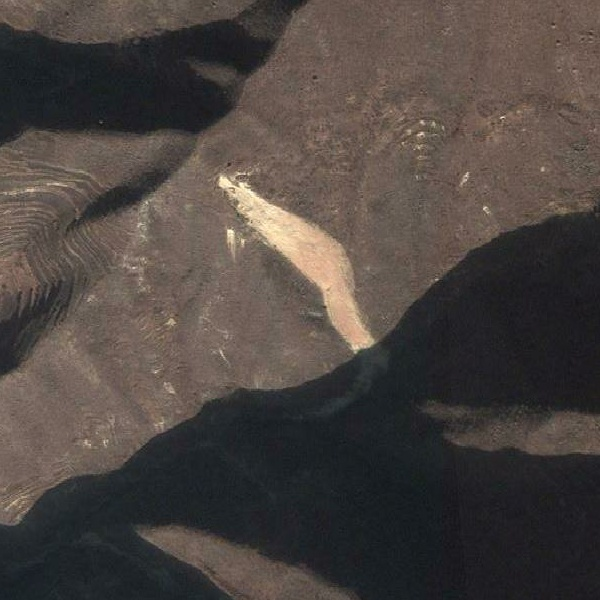slope: (219, 168, 374, 350)
